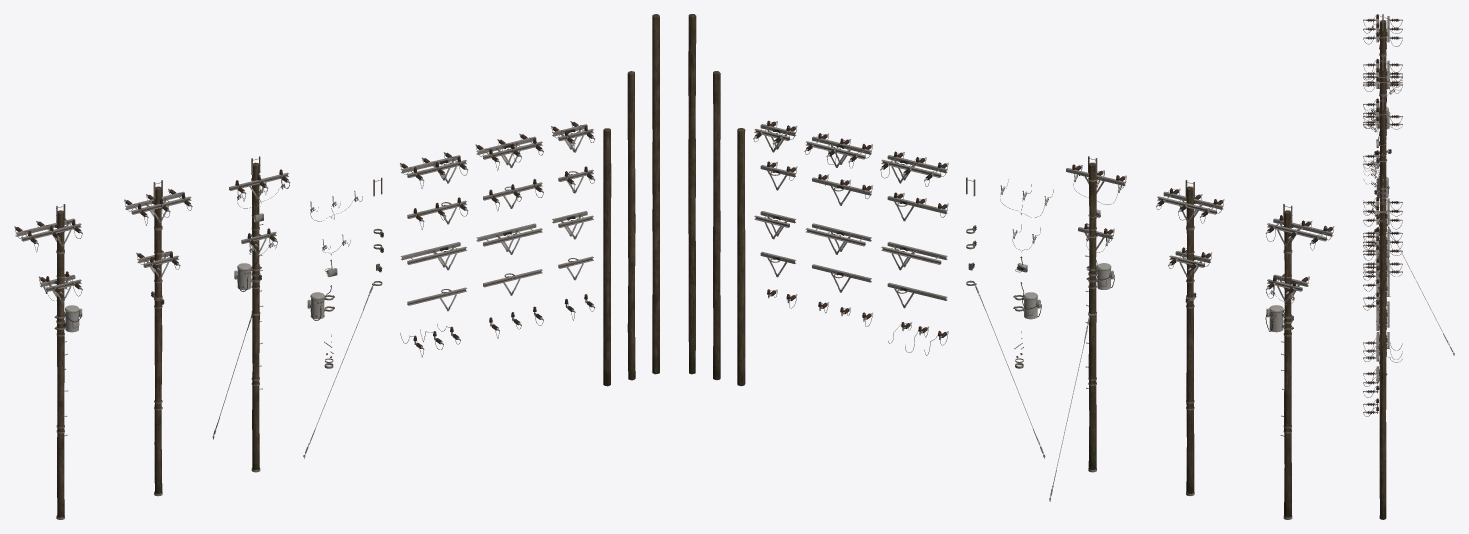
File: modular_electricity_poles.glb
3 views of the same model, side by side, from view 1: azimuth 30°, elevation 25°; view 2: azimuth 150°, elevation 25°; view 3: azimuth 270°, elevation 25° (orthographic). The views are drawn at different scales.
Parts seen in each view (by area): view 1: pole_large, pole, preset_03_pole, preset_02_pole, preset_01_pole, pole_small, connection_large_01, connection_large_offset_01, preset_02_connection_large_01, preset_03_connection_large_offset_01, support_large_offset_01, support_large_01; view 2: pole_large, pole, preset_01_pole, preset_02_pole, preset_03_pole, pole_small, connection_large_01, connection_large_offset_01, preset_02_connection_large_01, preset_03_connection_large_offset_01, support_large_offset_01, support_large_01; view 3: pole_large, preset_01_pole, connection_large_offset_01, preset_03_connection_large_offset_01, preset_02_connection_large_01, connection_large_01, connection_small_01, preset_03_pole, preset_02_pole, preset_01_connection_large_02, preset_02_connection_small_01, preset_03_connection_small_01_02 (+11 smaller).
Boxes of the visible parts, <box> form: pole_large: <box>652,14,659,374</box>; pole: <box>627,71,635,380</box>; preset_03_pole: <box>57,210,64,517</box>; preset_02_pole: <box>154,186,162,493</box>; preset_01_pole: <box>252,162,259,469</box>; pole_small: <box>603,128,611,386</box>; connection_large_01: <box>475,133,543,170</box>; connection_large_offset_01: <box>400,152,467,188</box>; preset_02_connection_large_01: <box>124,188,192,225</box>; preset_03_connection_large_offset_01: <box>14,218,82,252</box>; support_large_offset_01: <box>400,242,466,270</box>; support_large_01: <box>476,223,542,254</box>; pole_large: <box>688,14,696,374</box>; pole: <box>713,71,720,380</box>; preset_01_pole: <box>1088,162,1096,469</box>; preset_02_pole: <box>1186,186,1194,493</box>; preset_03_pole: <box>1284,210,1291,517</box>; pole_small: <box>737,128,745,386</box>; connection_large_01: <box>804,133,872,168</box>; connection_large_offset_01: <box>880,151,948,186</box>; preset_02_connection_large_01: <box>1156,188,1224,223</box>; preset_03_connection_large_offset_01: <box>1265,215,1334,250</box>; support_large_offset_01: <box>881,241,947,270</box>; support_large_01: <box>805,223,871,254</box>; pole_large: <box>1379,219,1386,519</box>; preset_01_pole: <box>1379,99,1386,219</box>; connection_large_offset_01: <box>1363,196,1402,231</box>; preset_03_connection_large_offset_01: <box>1363,14,1402,49</box>; preset_02_connection_large_01: <box>1363,59,1402,88</box>; connection_large_01: <box>1363,227,1402,257</box>; connection_small_01: <box>1363,258,1402,283</box>; preset_03_pole: <box>1379,20,1386,219</box>; preset_02_pole: <box>1379,60,1386,219</box>; preset_01_connection_large_02: <box>1363,98,1387,128</box>; preset_02_connection_small_01: <box>1363,112,1402,135</box>; preset_03_connection_small_01_02: <box>1363,74,1402,96</box>.
Bounding box in the file's own units: 13.12 × 7 × 1.96.
2 materials, 2 textured.
